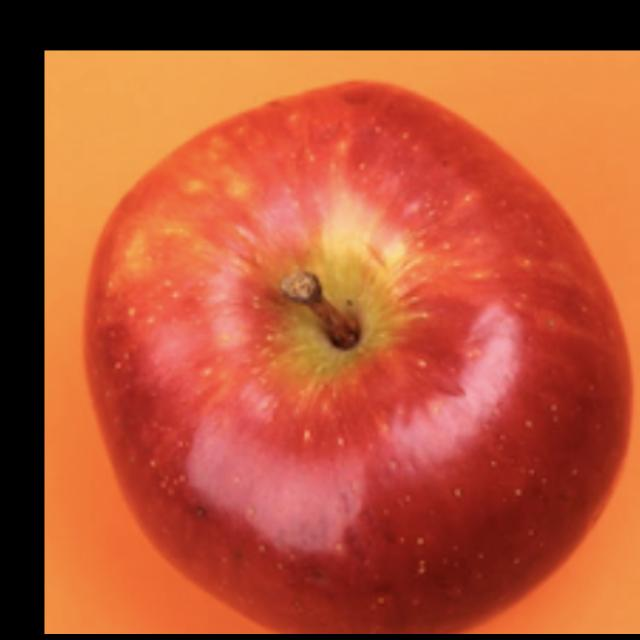Apel Segar: (72, 69, 640, 634)
